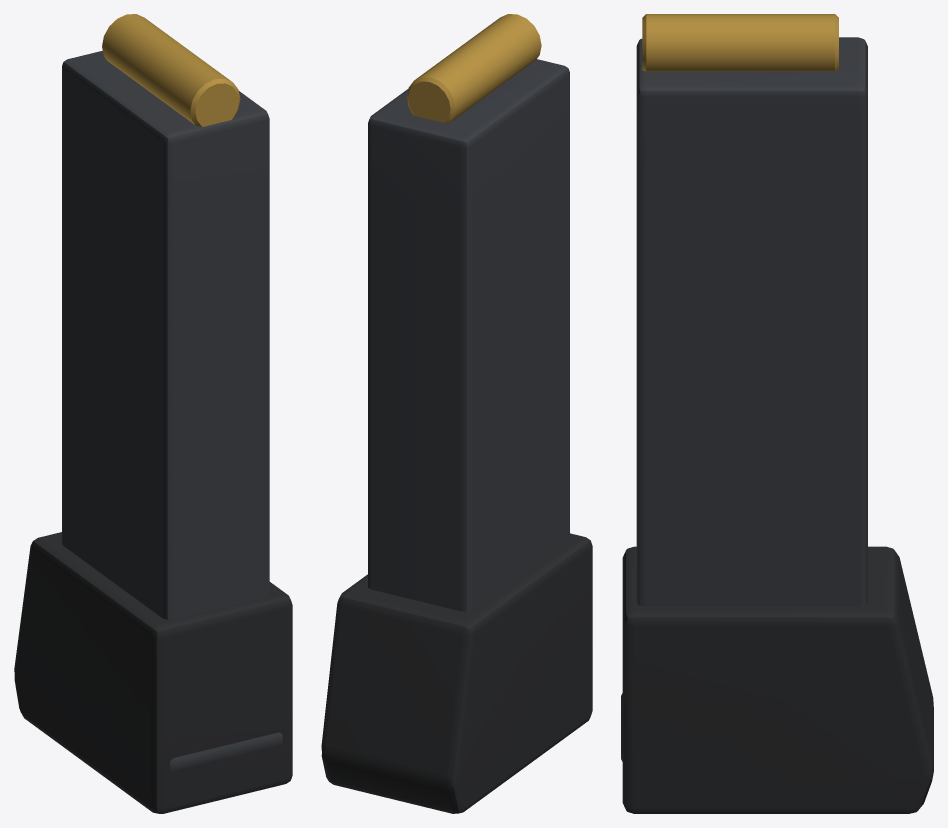
Rendered from mod_wren_extended_mag.glb.
3 renders of one model, left to right at view 1: azimuth 30°, elevation 25°; view 2: azimuth 150°, elevation 25°; view 3: azimuth 270°, elevation 25°, orthographic. The views are drawn at different scales.
Visible parts, largest first — view 1: Magazine, MagazinePad, MagazineRound; view 2: Magazine, MagazinePad, MagazineRound; view 3: Magazine, MagazinePad, MagazineRound.
Part boxes in pixels (bbox=[...]): Magazine: bbox=[62, 51, 282, 772]; MagazinePad: bbox=[14, 532, 292, 813]; MagazineRound: bbox=[102, 14, 240, 126]; Magazine: bbox=[368, 59, 569, 611]; MagazinePad: bbox=[321, 533, 592, 813]; MagazineRound: bbox=[407, 14, 541, 122]; Magazine: bbox=[621, 37, 867, 761]; MagazinePad: bbox=[622, 546, 933, 813]; MagazineRound: bbox=[642, 14, 838, 71].
Bounding box in the file's own units: 0.0226 × 0.1094 × 0.0406.
